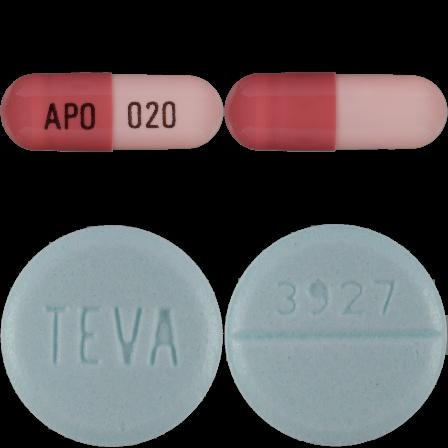35356-811: (0, 0, 224, 224)
